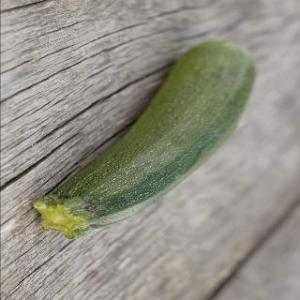zucchini: (50, 24, 266, 248)
